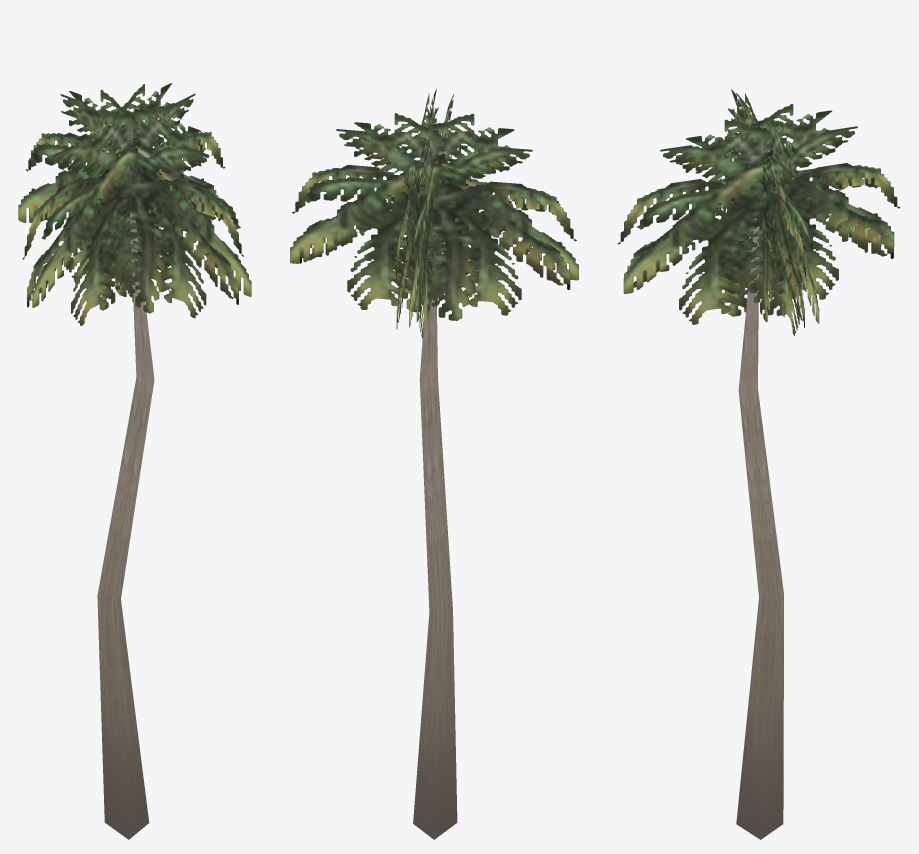
File: palm1.glb
3 views of the same model, side by side, from view 1: azimuth 30°, elevation 25°; view 2: azimuth 150°, elevation 25°; view 3: azimuth 270°, elevation 25° (orthographic).
Visible parts, largest first — view 1: palm1; view 2: palm1; view 3: palm1.
Part boxes in pixels (x1,y1,x2,y2): palm1: (18, 83, 251, 839); palm1: (290, 89, 578, 839); palm1: (617, 89, 900, 839).
Size of the model in its own units: 4.84 by 13.88 by 4.87.
1 material, 1 textured.
